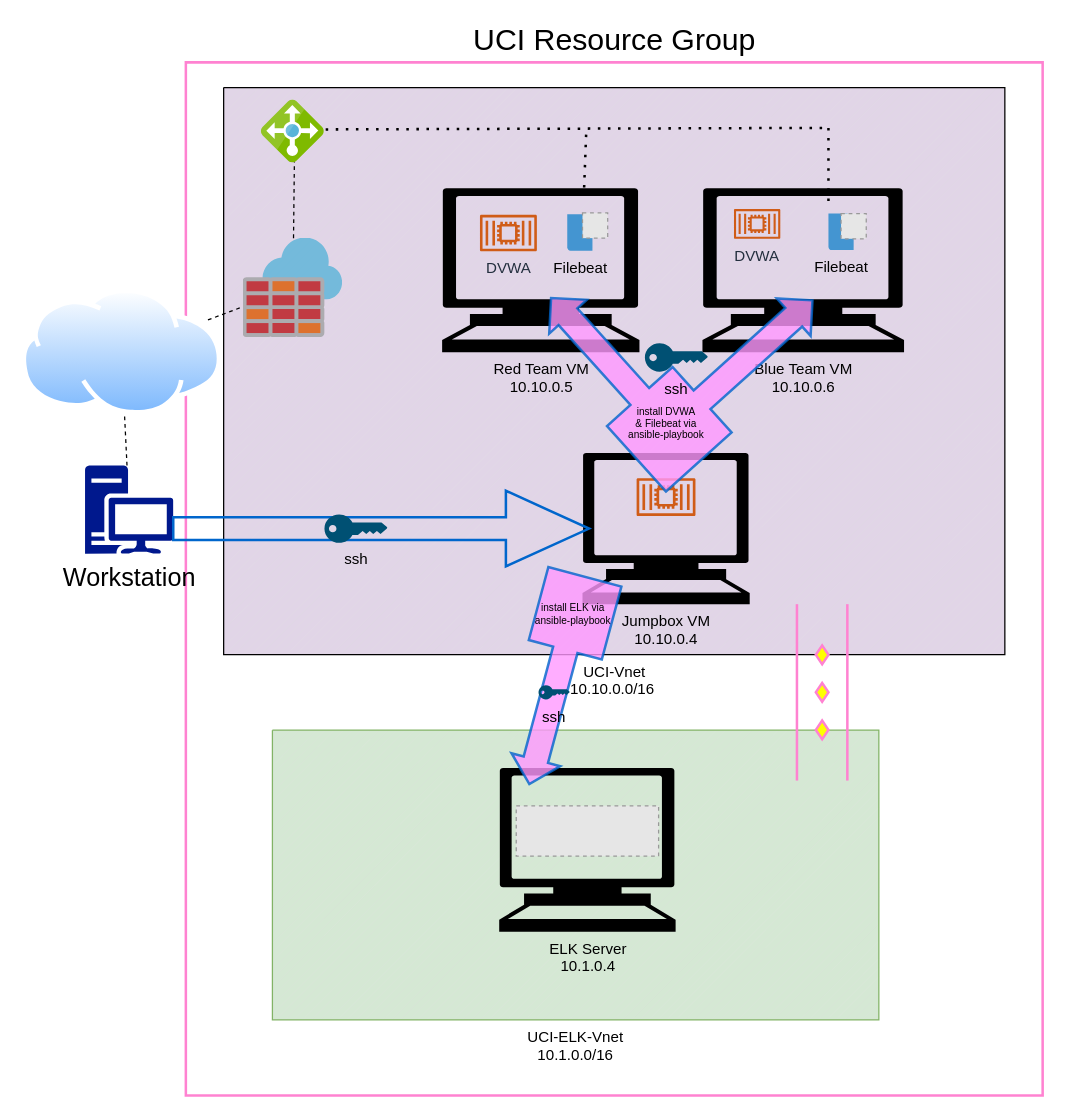
Image size: 1065x1118. Some labels were removed from this diagram. Grey dashed boxes stand in for pictures. The centre of each missing label's shape, as x and y in pixels:
"Ansible Container" belongs at (x=665, y=496).
"Azure Firewall" belongs at (x=292, y=287).
"Internet" belongs at (x=121, y=352).
"Load Balancer" belongs at (x=292, y=131).
"Peering" belongs at (x=821, y=691).
